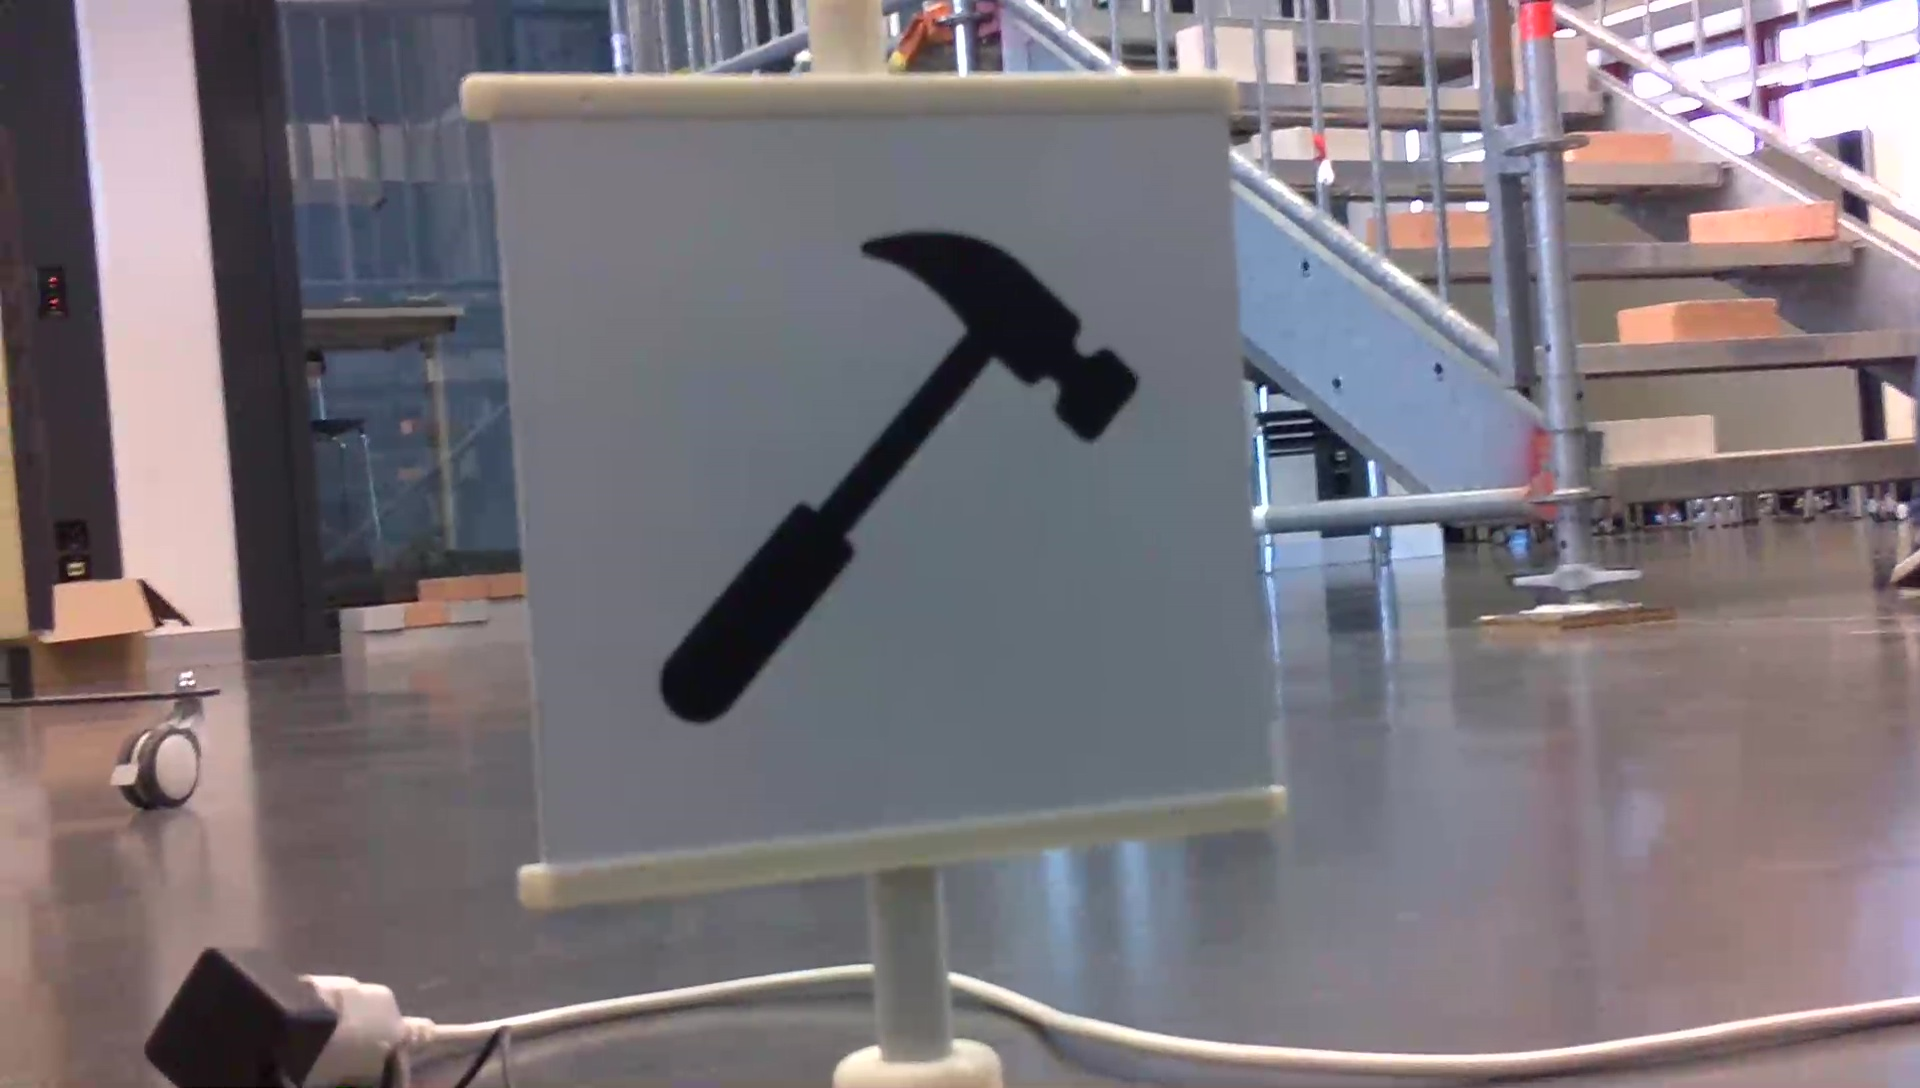brick: (1618, 301, 1775, 340), (1689, 206, 1837, 240), (1602, 415, 1712, 458), (1572, 129, 1671, 165), (1553, 36, 1586, 90)
hammer: (647, 226, 1150, 728)
